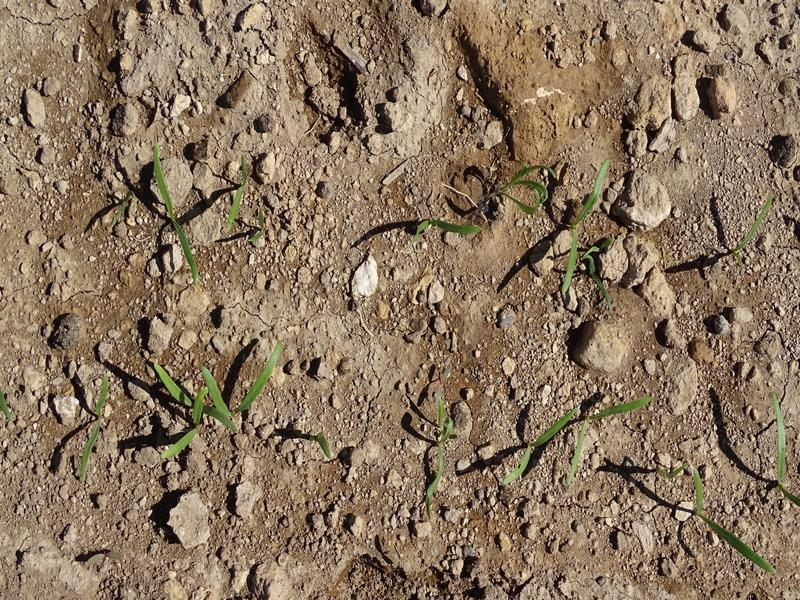Espinaca: (145, 347, 288, 461), (521, 402, 642, 489), (548, 159, 619, 299), (688, 468, 779, 575), (143, 142, 208, 285), (74, 377, 116, 481), (482, 156, 550, 213), (769, 397, 797, 505), (428, 387, 455, 499), (407, 212, 485, 245), (223, 151, 253, 232)
